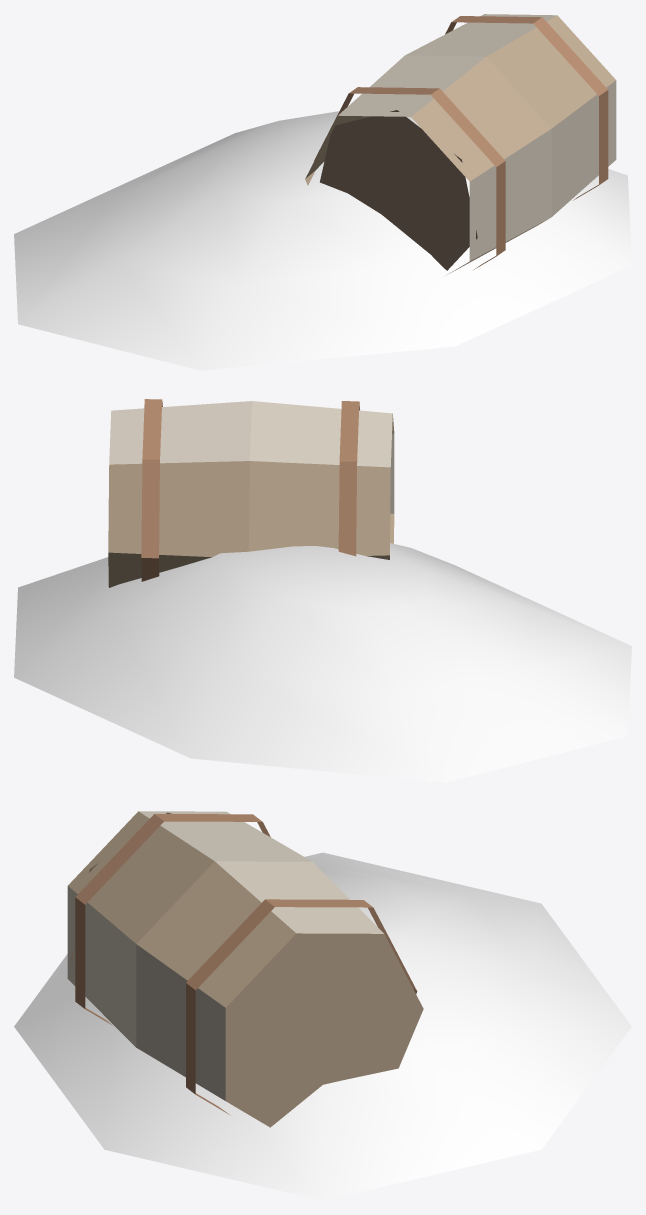
Rendered from caravana_barril_ligero.glb.
3 views of the same model, one above another, from view 1: azimuth 30°, elevation 25°; view 2: azimuth 150°, elevation 25°; view 3: azimuth 270°, elevation 25° (orthographic). The views are drawn at different scales.
Parts seen in each view (by area): view 1: caravana_barril_arena, caravana_barril; view 2: caravana_barril_arena, caravana_barril; view 3: caravana_barril_arena, caravana_barril.
Part boxes in pixels (x1,y1,x2,y2): caravana_barril_arena: (14, 111, 631, 370); caravana_barril: (305, 14, 616, 274); caravana_barril_arena: (14, 543, 631, 782); caravana_barril: (108, 399, 394, 587); caravana_barril_arena: (14, 852, 631, 1200); caravana_barril: (67, 811, 423, 1127).
Bounding box in the file's own units: 2 × 0.6286 × 1.5.
